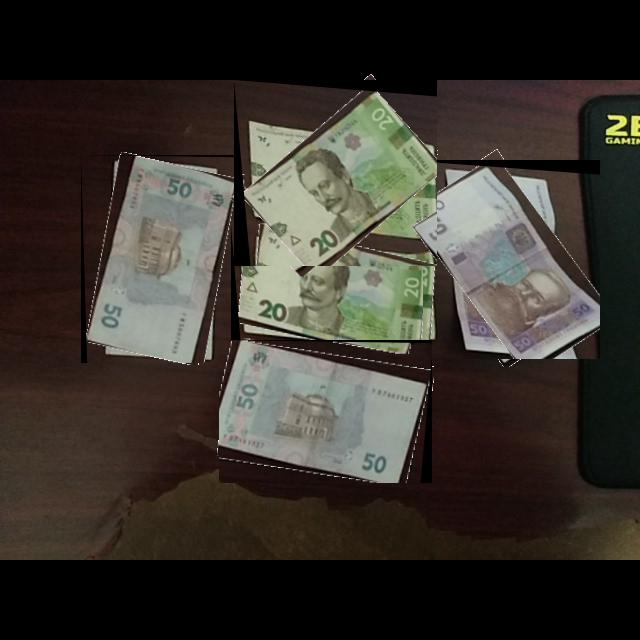20uah: (242, 90, 438, 267), (238, 226, 424, 351)
50uah: (406, 165, 601, 360), (86, 156, 236, 364), (219, 341, 431, 484)
